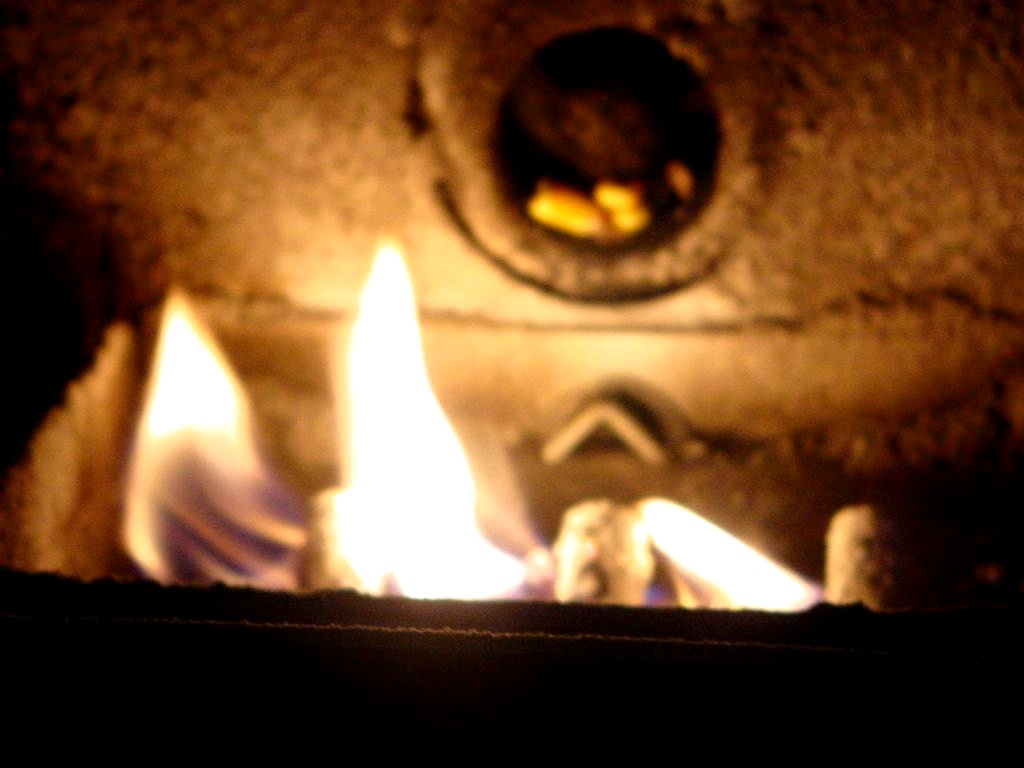fire: (113, 247, 878, 610)
